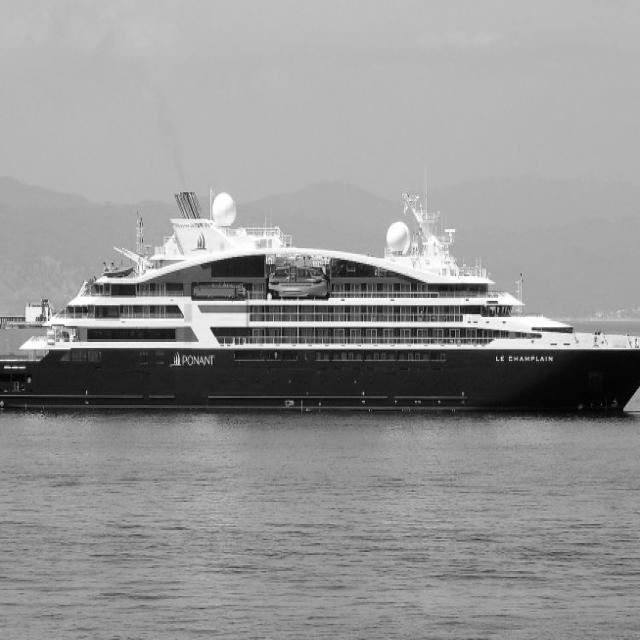cruises: (1, 173, 640, 425)
